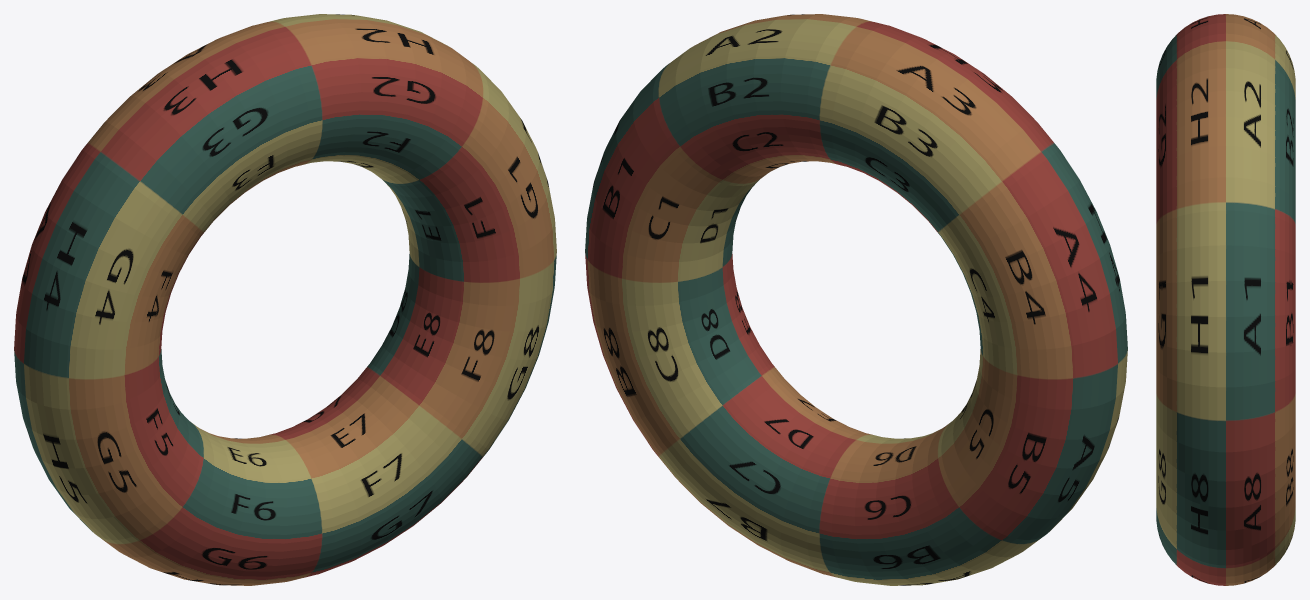
Rendered from texture_torus_R29_r28.glb.
The picture shows the model from 3 angles, left to right: view 1: azimuth 30°, elevation 25°; view 2: azimuth 150°, elevation 25°; view 3: azimuth 270°, elevation 25°; orthographic projection. The views are drawn at different scales.
Visible parts, largest first — view 1: world; view 2: world; view 3: world.
Part boxes in pixels (box(x1,y1,x2,y2)): world: box(14, 14, 556, 585); world: box(585, 14, 1127, 585); world: box(1156, 14, 1295, 585).
Bounding box in the file's own units: 38.8 × 38.72 × 9.45.
Materials: 1 (1 with a texture image).
